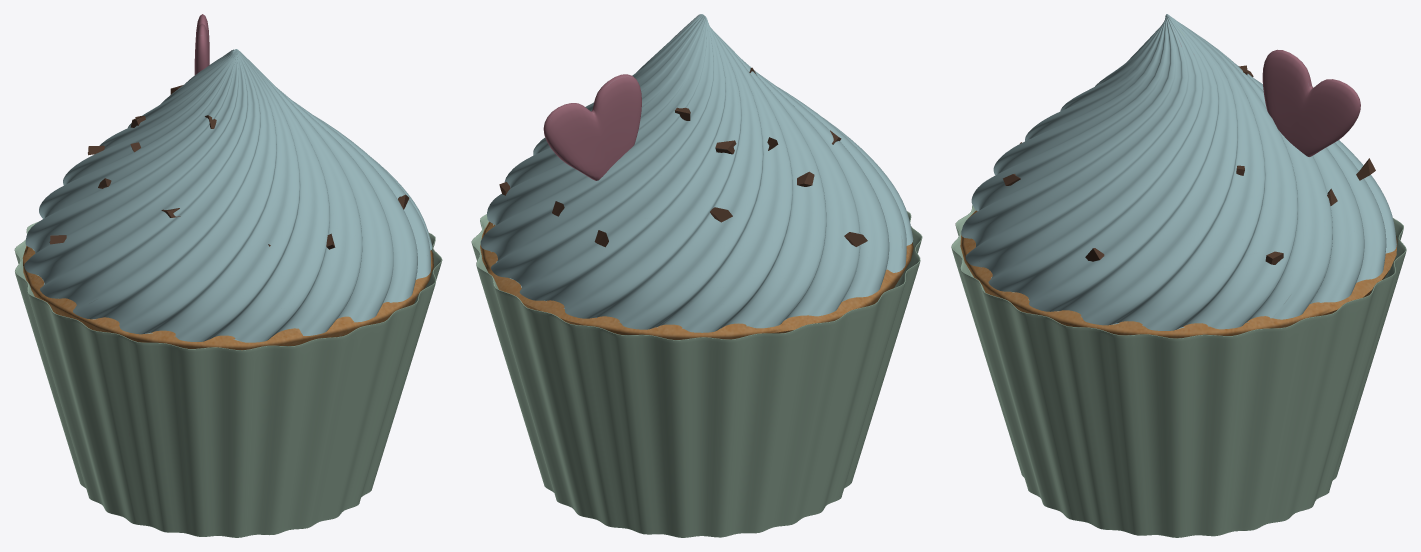
File: muffin.glb
3 renders of one model, left to right at view 1: azimuth 30°, elevation 25°; view 2: azimuth 150°, elevation 25°; view 3: azimuth 270°, elevation 25°, orthographic. The views are drawn at different scales.
Parts seen in each view (by area): view 1: pCylinder28; view 2: pCylinder28; view 3: pCylinder28.
Boxes of the visible parts, x1=… form: pCylinder28: x1=14, y1=14, x2=442, y2=537; pCylinder28: x1=471, y1=14, x2=922, y2=537; pCylinder28: x1=951, y1=14, x2=1406, y2=537.
Bounding box in the file's own units: 2.11 × 2.35 × 2.12.
Materials: 1 (1 with a texture image).
